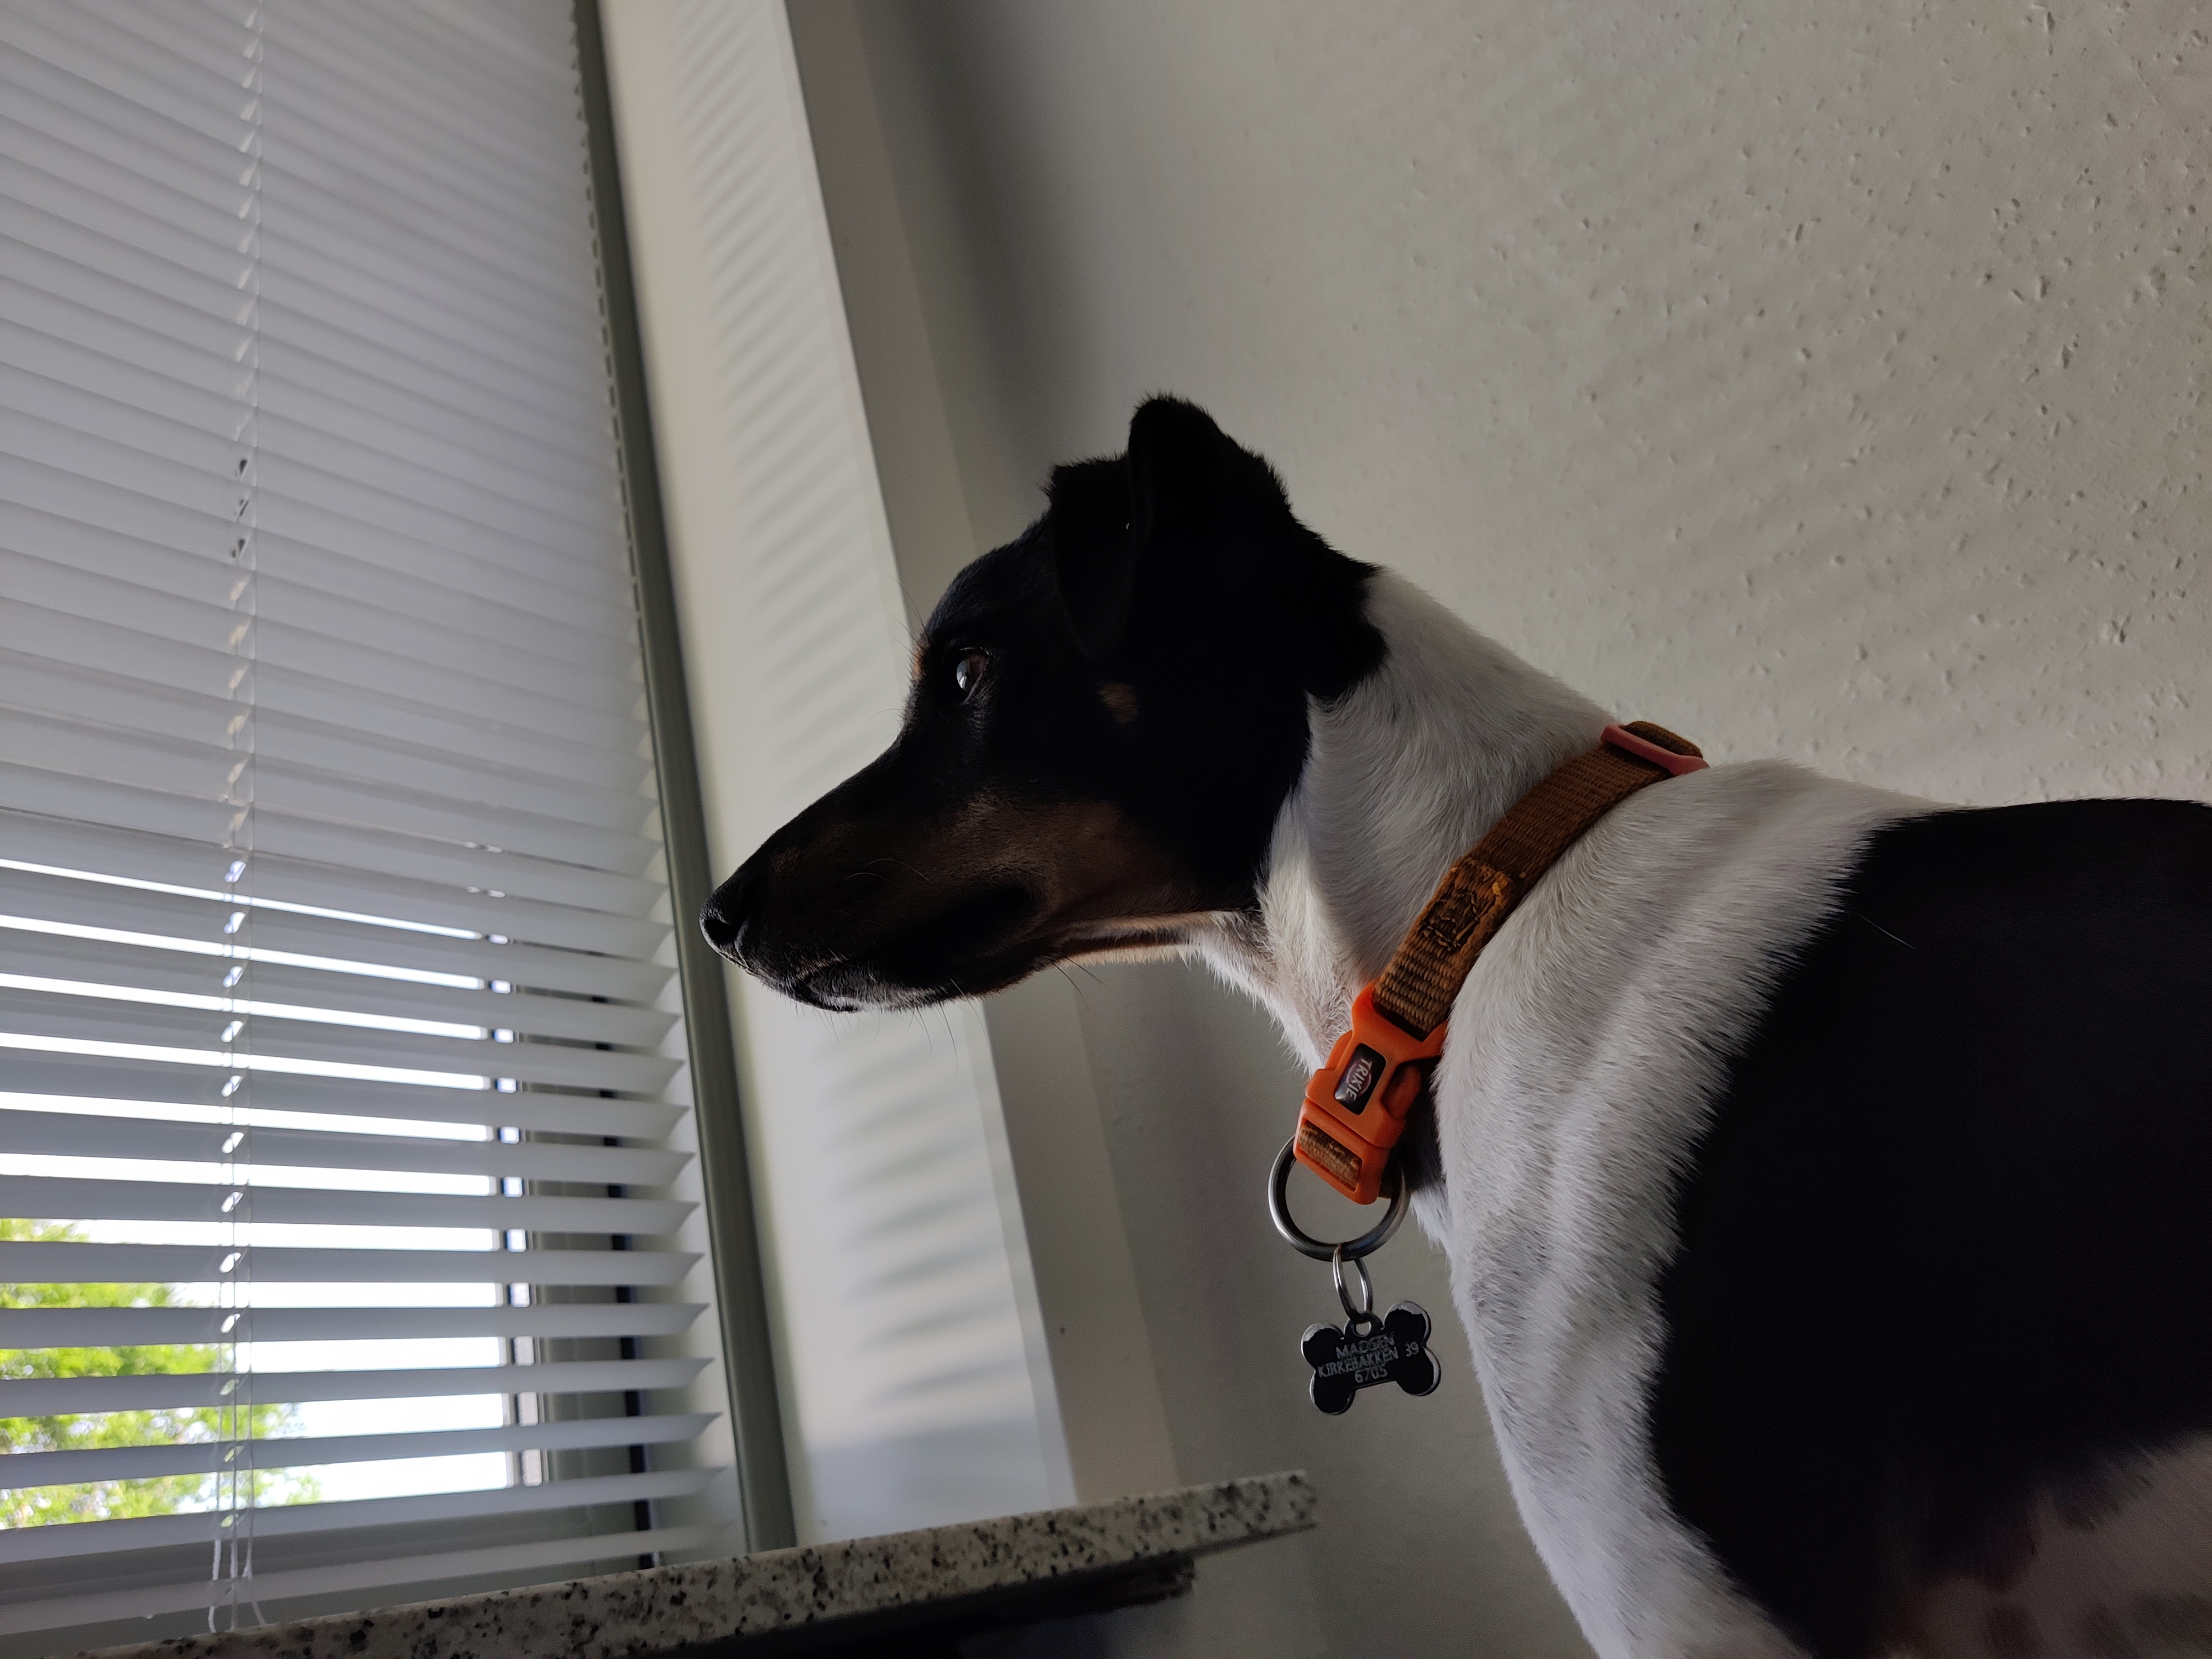Dog: (679, 369, 2212, 1659)
